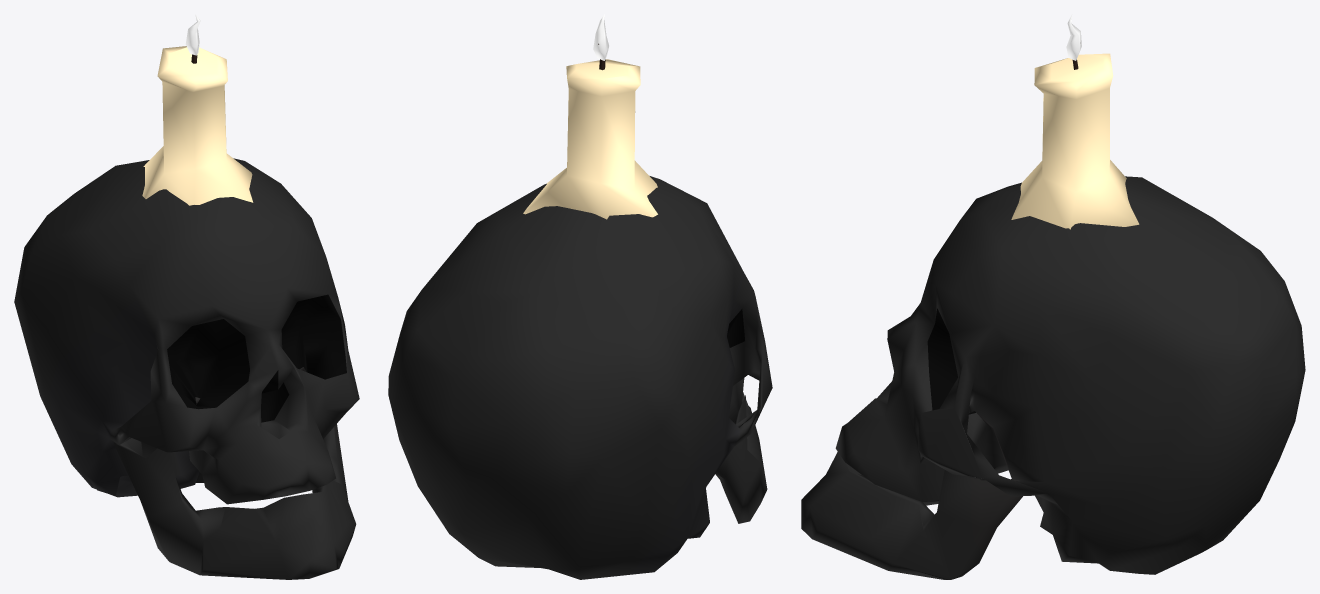
The model's file is CandleSkullShapeB.005.glb.
3 renders of one model, left to right at view 1: azimuth 30°, elevation 25°; view 2: azimuth 150°, elevation 25°; view 3: azimuth 270°, elevation 25°, orthographic. The views are drawn at different scales.
Parts seen in each view (by area): view 1: CandleSkullShapeB.005; view 2: CandleSkullShapeB.005; view 3: CandleSkullShapeB.005.
Boxes of the visible parts, bbox=[...] form: CandleSkullShapeB.005: bbox=[14, 14, 359, 579]; CandleSkullShapeB.005: bbox=[388, 14, 772, 579]; CandleSkullShapeB.005: bbox=[801, 14, 1305, 579].
Size of the model in its own units: 0.2005 by 0.3649 by 0.3132.
Materials: 2 (2 with a texture image).
